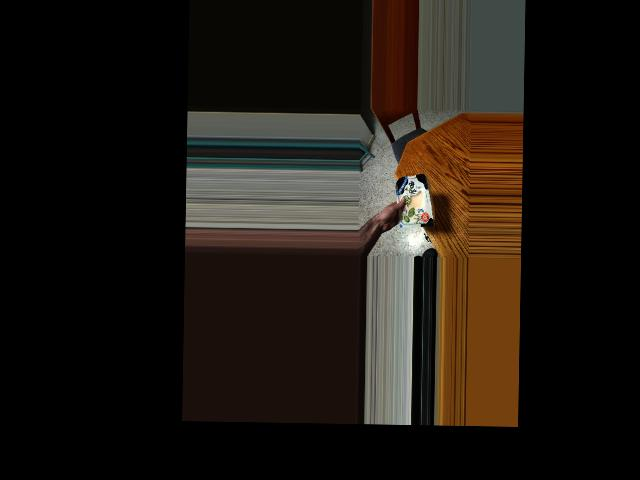cheese: (394, 172, 432, 221)
